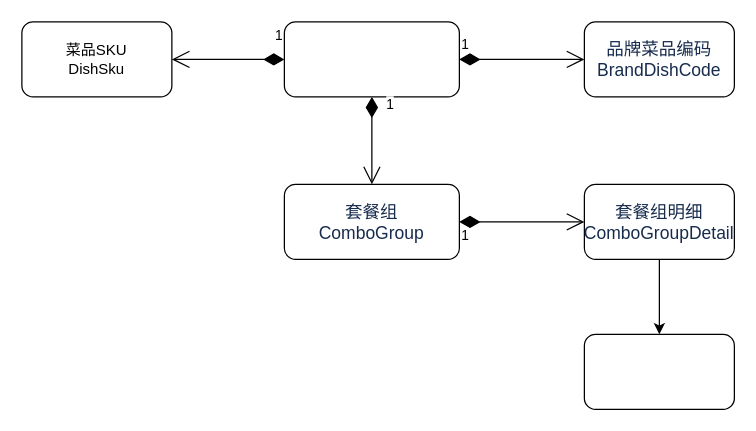
This 756x431 diagram has some shape labels left out. The box of each missing label's shape, as (x1, y1, x2, y2) in pixels:
套餐 ComboDish: (283, 21, 459, 97)
菜品 Dish: (583, 333, 734, 409)
